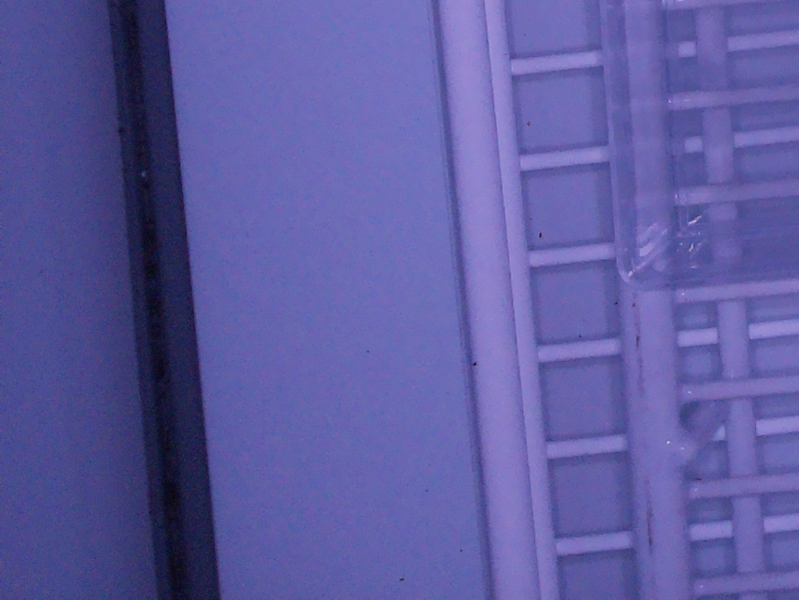plate: (605, 1, 799, 289)
